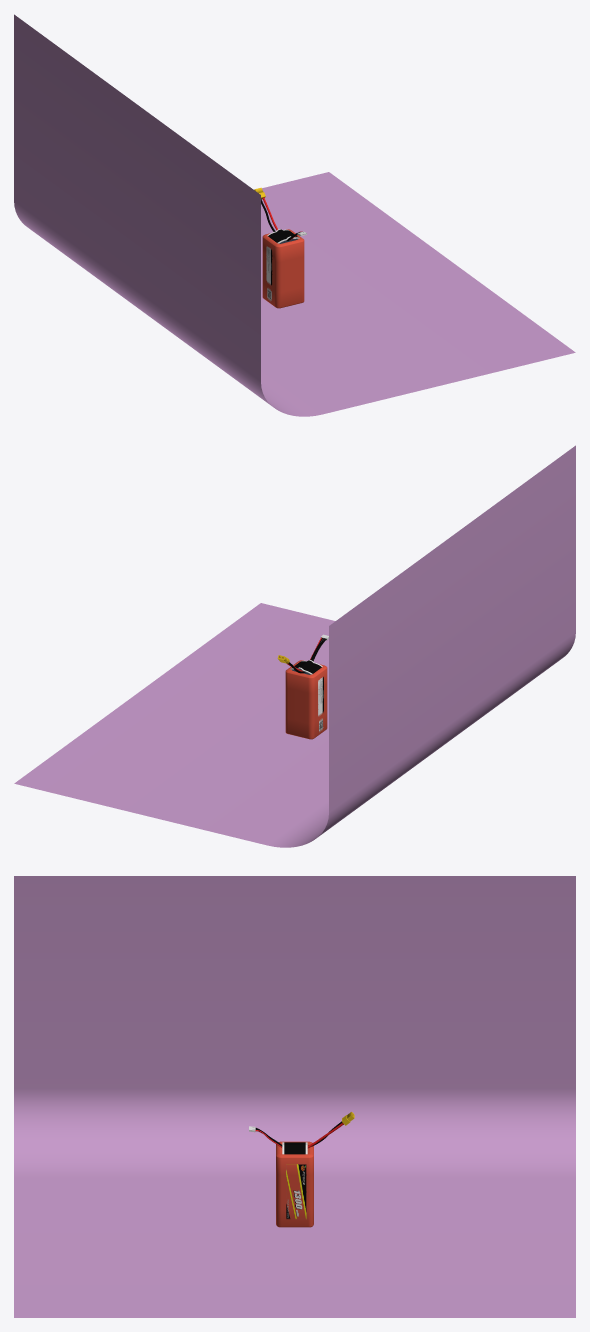
Rendered from battery.glb.
The picture shows the model from 3 angles, top to bottom: view 1: azimuth 30°, elevation 25°; view 2: azimuth 150°, elevation 25°; view 3: azimuth 270°, elevation 25°; orthographic projection. The views are drawn at different scales.
Parts seen in each view (by area): view 1: Plane bg, main_battery; view 2: Plane bg, main_battery; view 3: Plane bg, main_battery.
Part boxes in pixels (x1=…): Plane bg: x1=14, y1=14, x2=575, y2=416; main_battery: x1=262, y1=229, x2=304, y2=308; Plane bg: x1=14, y1=445, x2=575, y2=847; main_battery: x1=285, y1=660, x2=327, y2=739; Plane bg: x1=14, y1=876, x2=575, y2=1317; main_battery: x1=276, y1=1141, x2=313, y2=1227.
Bounding box in the file's own units: 21.88 × 15.56 × 29.7.
9 materials, 1 textured.
